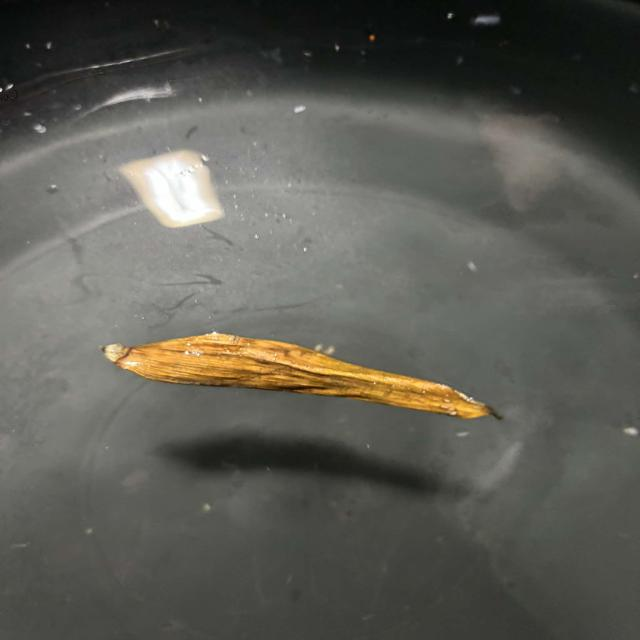Leaf: (101, 306, 595, 486)
